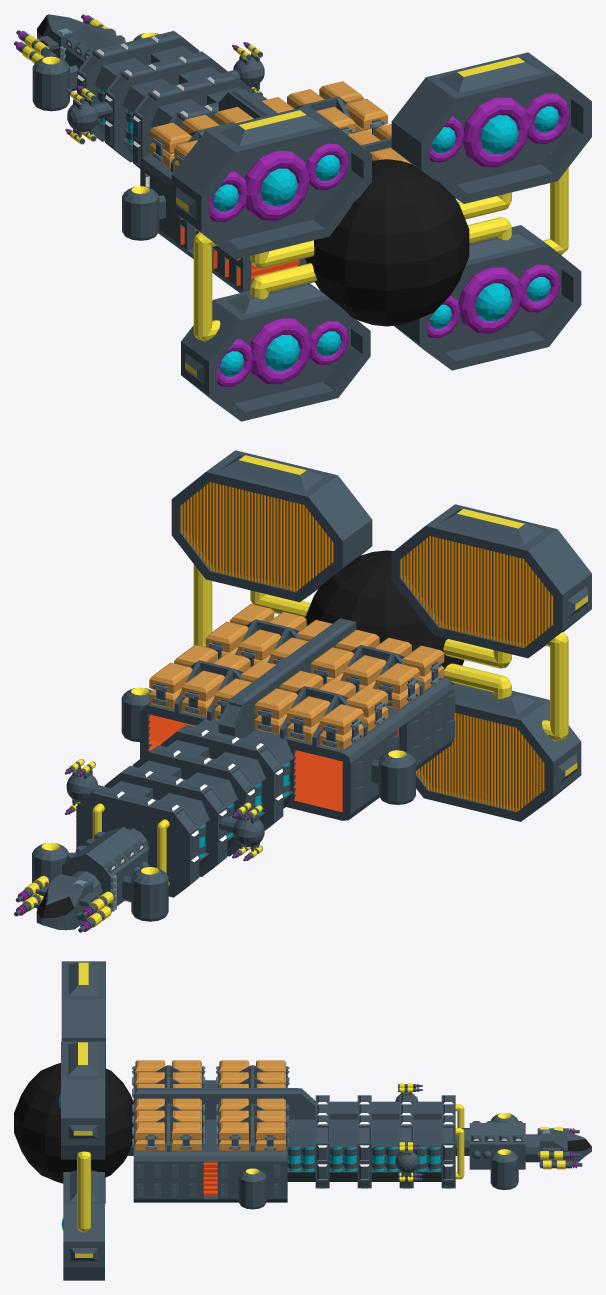
Rendered from Colored Freighter.glb.
3 renders of one model, top to bottom at view 1: azimuth 30°, elevation 25°; view 2: azimuth 150°, elevation 25°; view 3: azimuth 270°, elevation 25°, orthographic. The views are drawn at different scales.
Parts seen in each view (by area): view 1: group122676374; view 2: group122676374; view 3: group122676374.
Part boxes in pixels (<box>): group122676374: <box>14,14,591,421</box>; group122676374: <box>14,450,591,932</box>; group122676374: <box>14,961,591,1280</box>.
Bounding box in the file's own units: 2.18 × 1.51 × 3.65.
